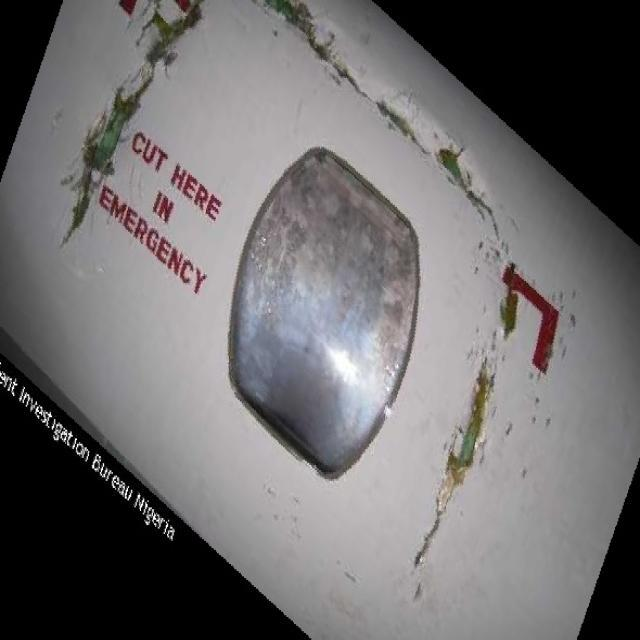crack: (268, 3, 503, 242), (58, 3, 204, 251), (416, 356, 501, 567)
